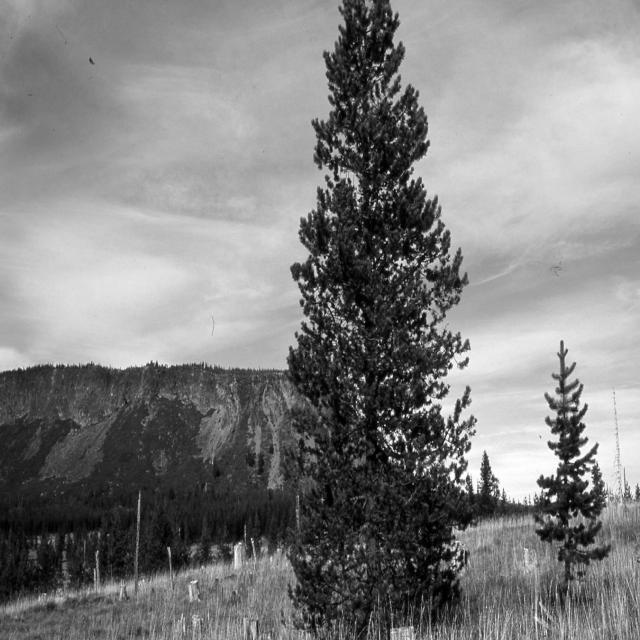Pinus contorta var. latifolia: (284, 1, 476, 640), (534, 337, 613, 595)
